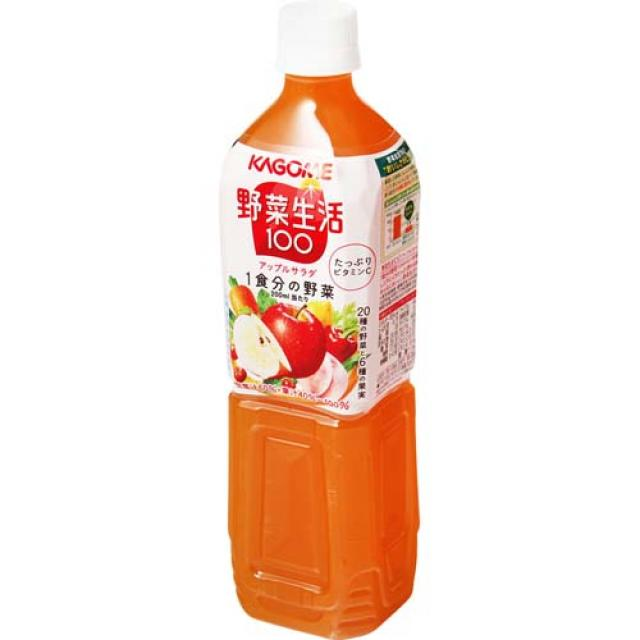juice: (220, 3, 421, 640)
